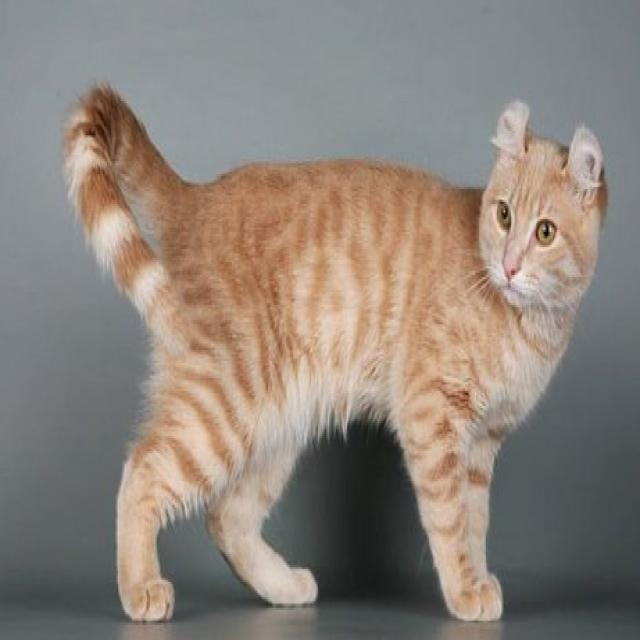American Curl: (60, 77, 612, 632)
